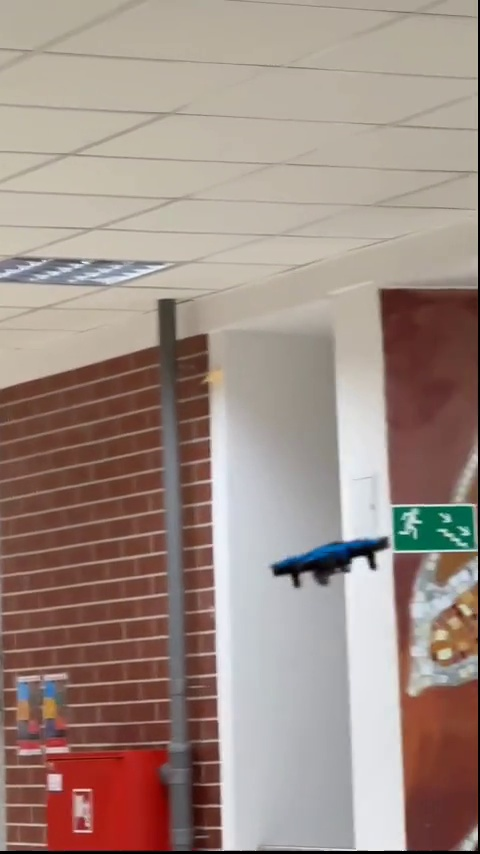drone: (266, 540, 400, 589)
